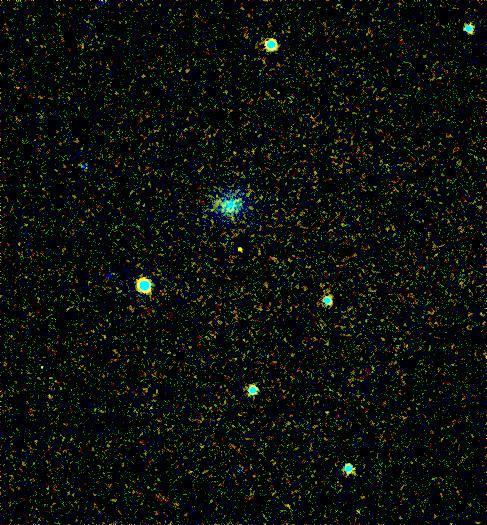star: (224, 235, 254, 265)
